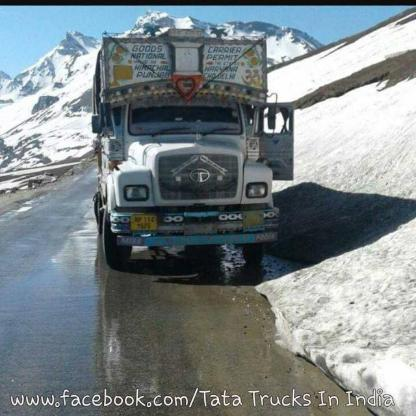truck: (85, 17, 297, 295)
